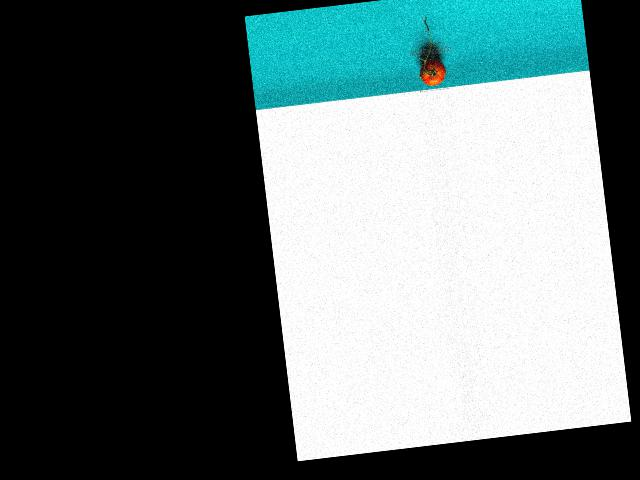tomato: (417, 58, 446, 86)
